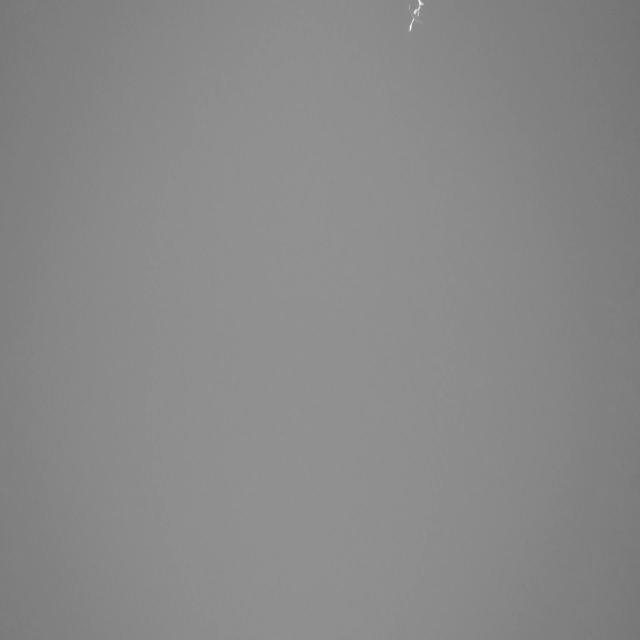aeroplane: (406, 0, 427, 39)
